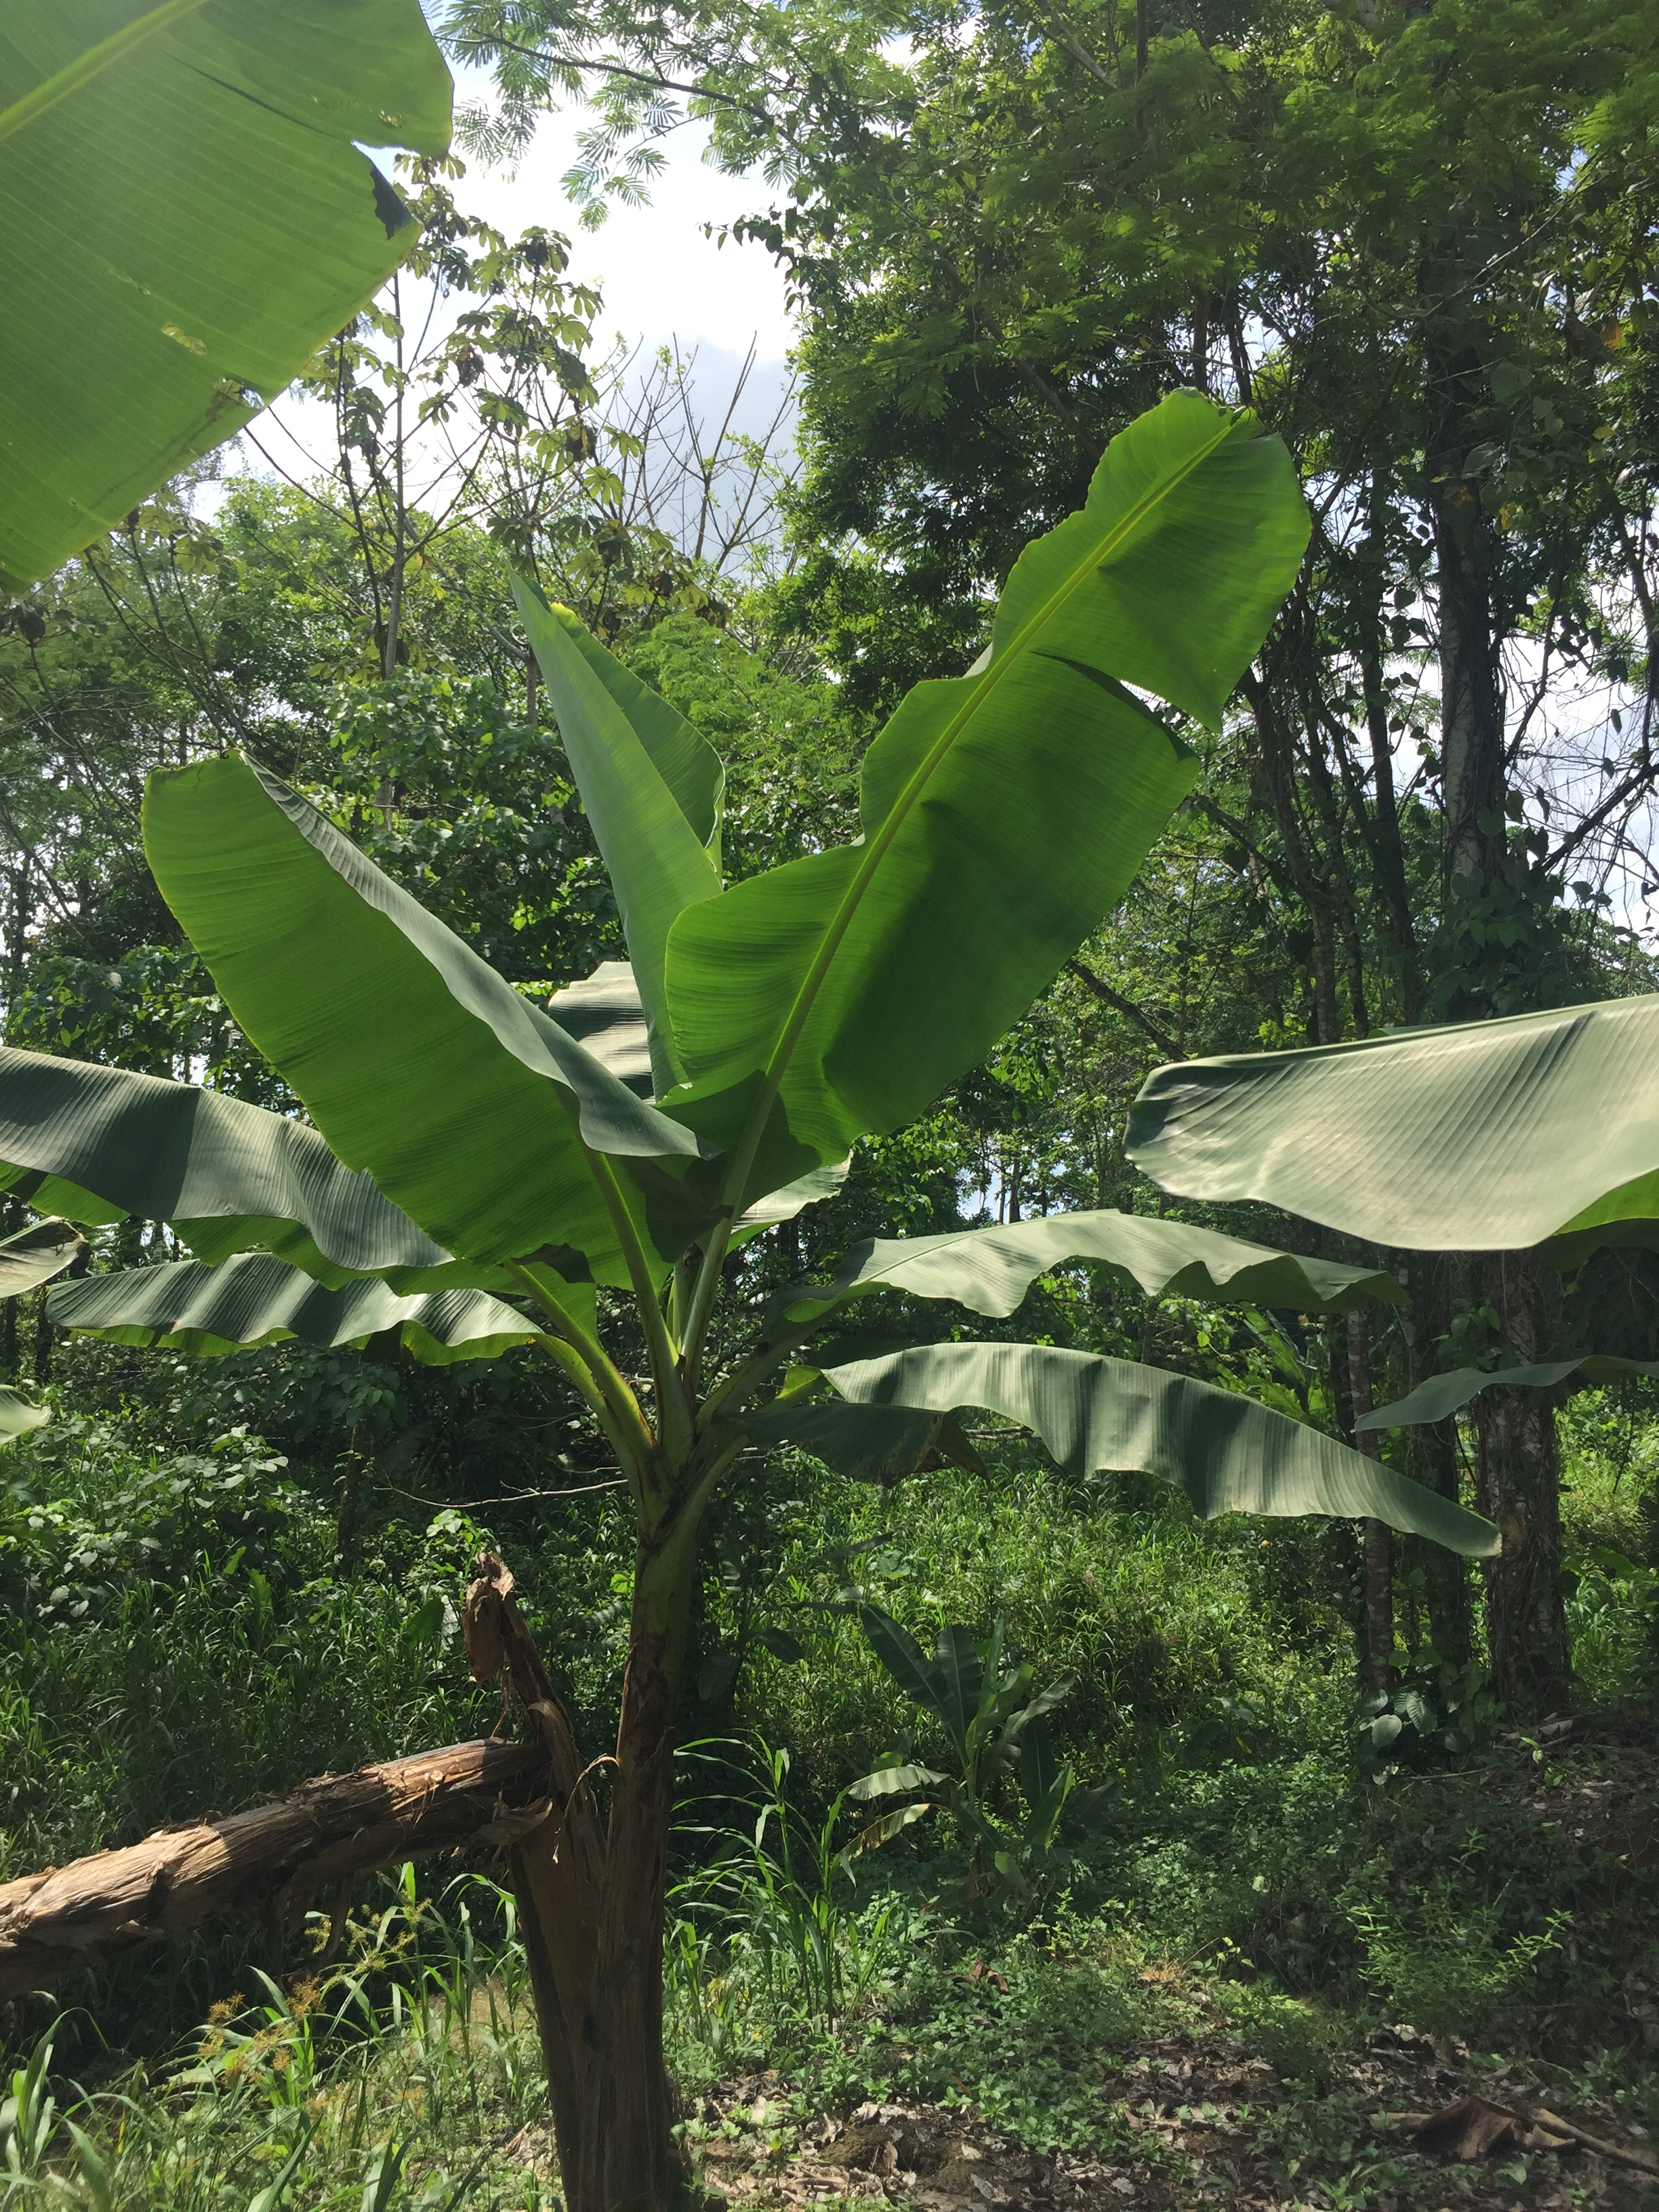candleleafs: (504, 556, 727, 1104)
